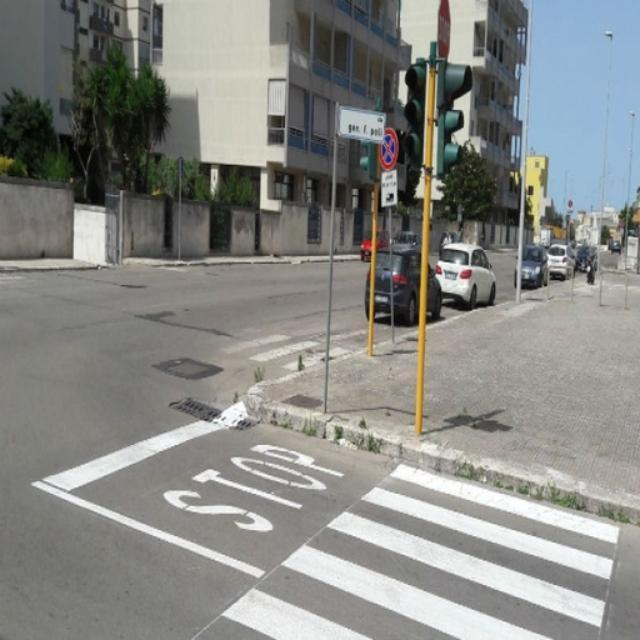sidewalk: (193, 469, 622, 640)
